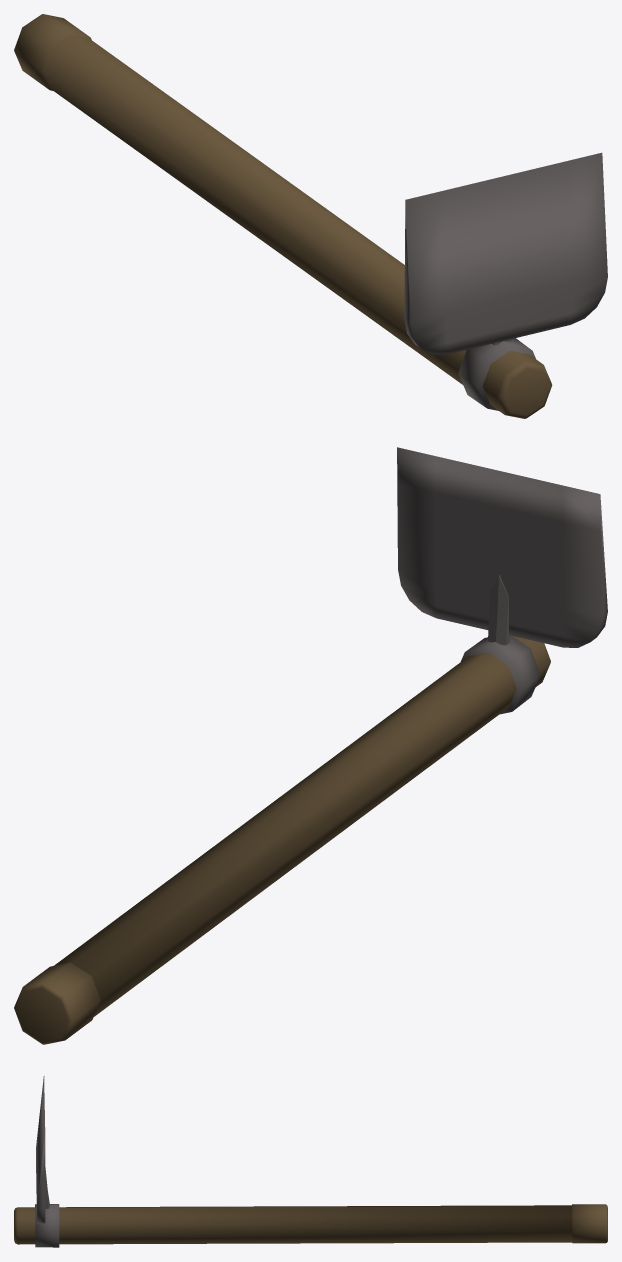
Rendered from Hoe.glb.
The picture shows the model from 3 angles, top to bottom: view 1: azimuth 30°, elevation 25°; view 2: azimuth 150°, elevation 25°; view 3: azimuth 270°, elevation 25°; orthographic projection. The views are drawn at different scales.
Parts seen in each view (by area): view 1: Cylinder.002; view 2: Cylinder.002; view 3: Cylinder.002.
Part boxes in pixels (x1,y1,x2,y2): Cylinder.002: [14, 14, 607, 418]; Cylinder.002: [14, 447, 607, 1044]; Cylinder.002: [14, 1076, 607, 1247].
Bounding box in the file's own units: 2.29 × 2.56 × 9.57.
1 material, 1 textured.
